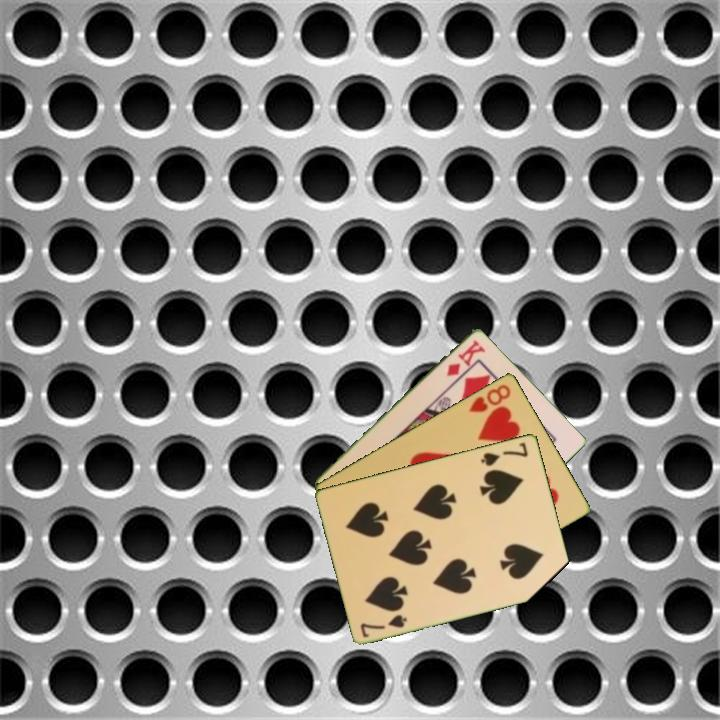7s: (477, 438, 531, 469), (357, 611, 410, 640)
8h: (465, 381, 514, 415)
Kd: (443, 336, 487, 379)
